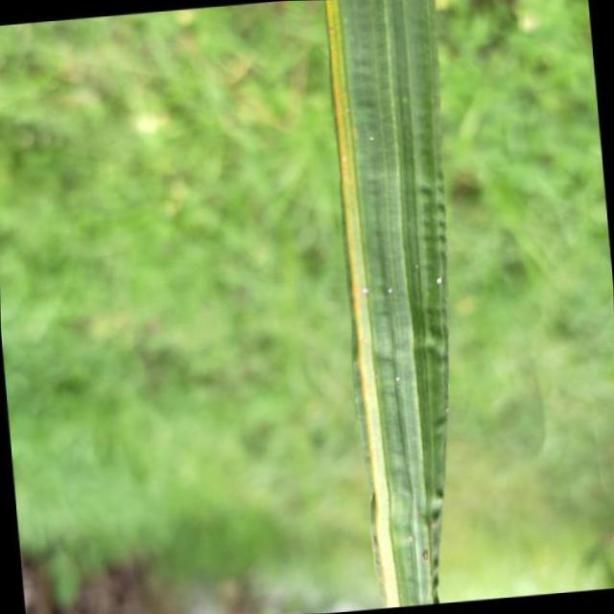Boron: (318, 0, 453, 614)
